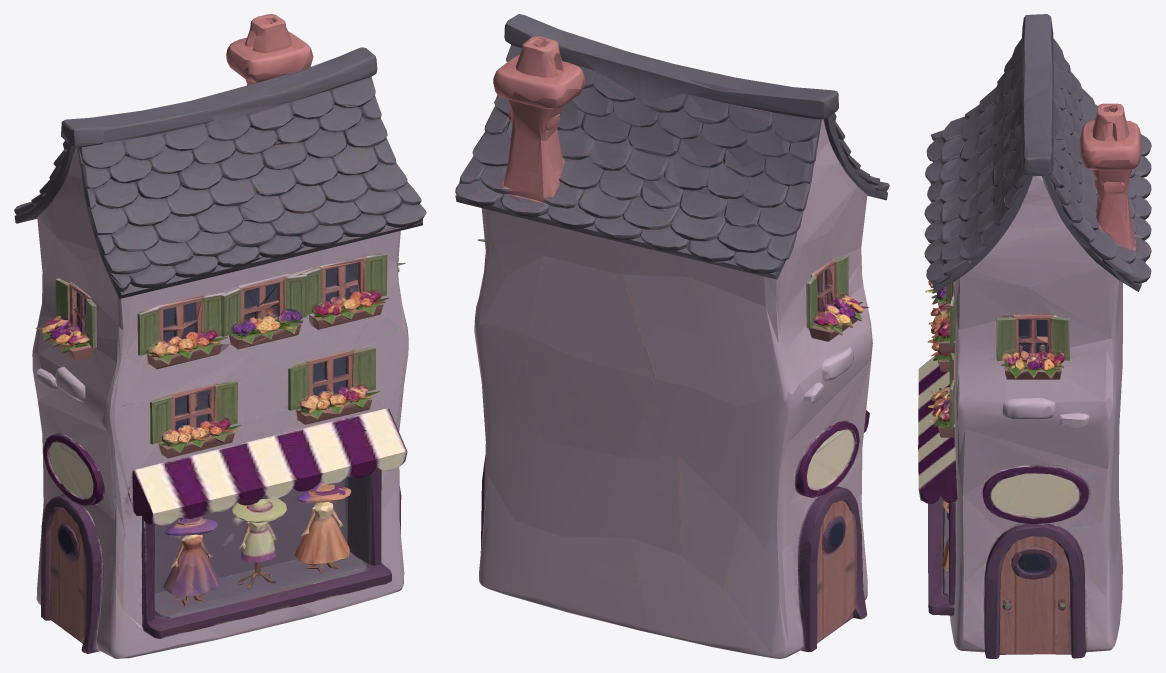
The model's file is shop_boutique.glb.
The picture shows the model from 3 angles, left to right: view 1: azimuth 30°, elevation 25°; view 2: azimuth 150°, elevation 25°; view 3: azimuth 270°, elevation 25°; orthographic projection. The views are drawn at different scales.
Size of the model in its own units: 7.5 by 11 by 4.5.
Materials: 1 (1 with a texture image).
